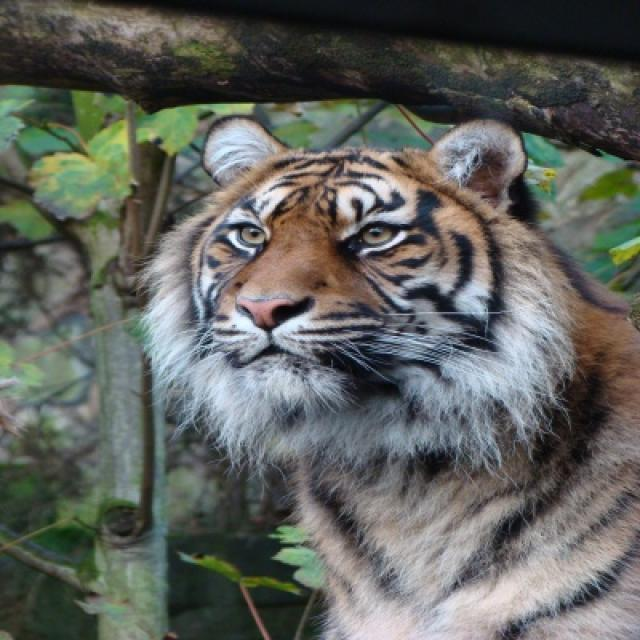Tiger: (161, 116, 635, 638)
